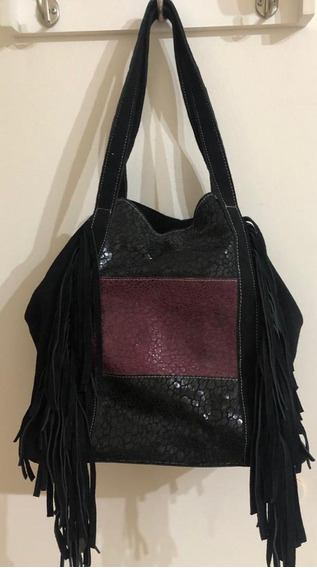cartera: (17, 1, 313, 475)
